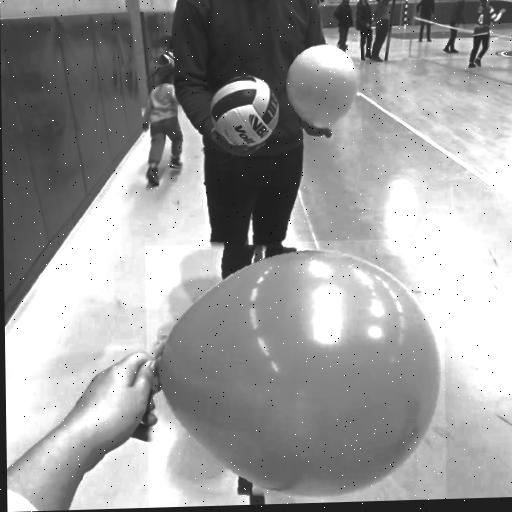balloon: (145, 237, 447, 508), (283, 42, 361, 131)
